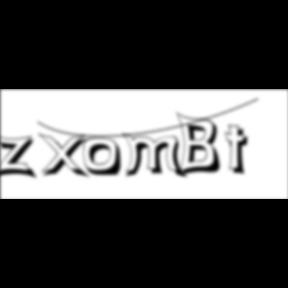B: (177, 111, 227, 179)
m: (122, 132, 190, 181)
o: (83, 137, 125, 179)
t: (225, 124, 256, 179)
x: (38, 132, 94, 181)
z: (0, 134, 42, 182)
